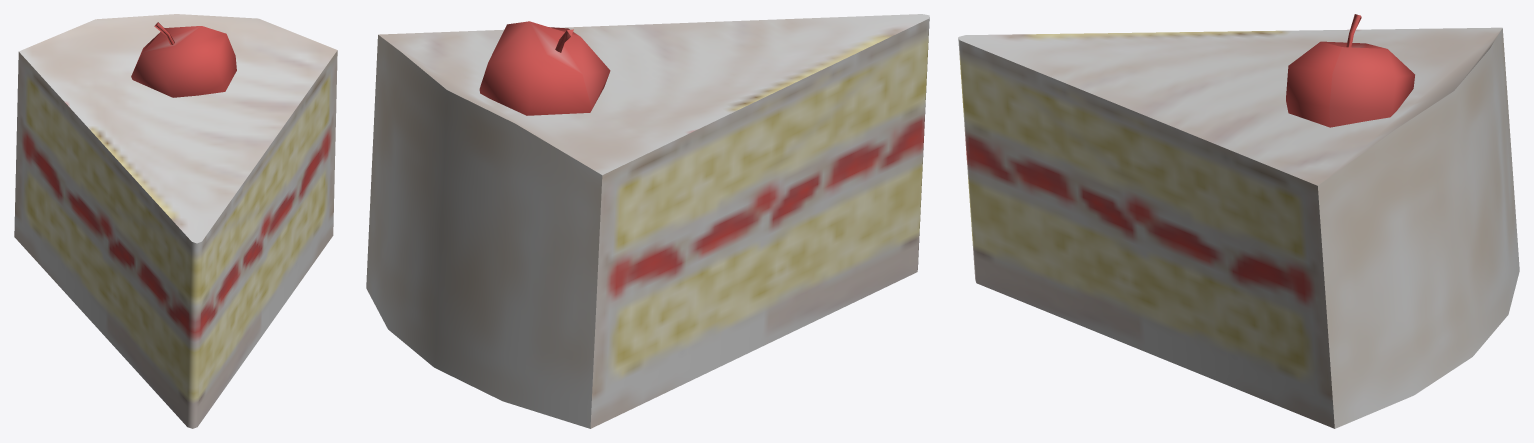
File: H_Sapph_CakeSliceStrawberry.fbx
3 renders of one model, left to right at view 1: azimuth 30°, elevation 25°; view 2: azimuth 150°, elevation 25°; view 3: azimuth 270°, elevation 25°, orthographic. The views are drawn at different scales.
Parts seen in each view (by area): view 1: CakeSlice.001; view 2: CakeSlice.001; view 3: CakeSlice.001.
Part boxes in pixels (x1,y1,x2,y2): CakeSlice.001: [14, 14, 337, 428]; CakeSlice.001: [366, 14, 929, 428]; CakeSlice.001: [958, 14, 1519, 428].
Size of the model in its own units: 13.11 by 11.62 by 17.53.
